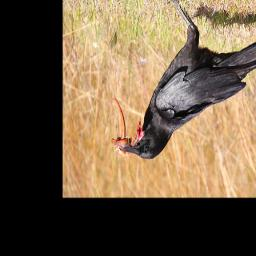Crow: (103, 0, 256, 165)
